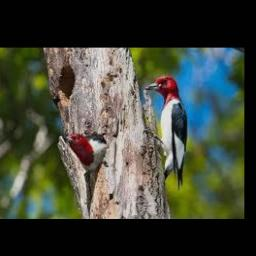Woodpecker: (144, 76, 188, 190), (64, 131, 108, 194)
